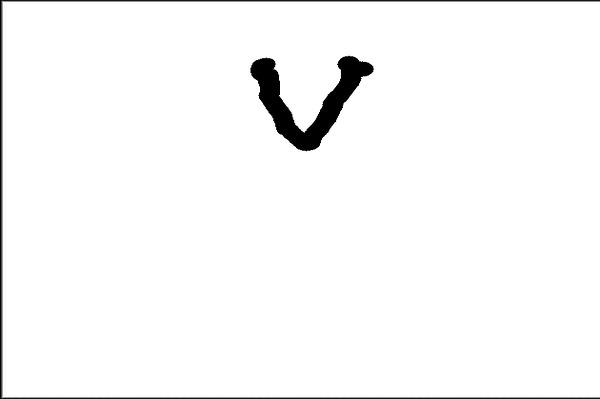V: (243, 40, 379, 151)
